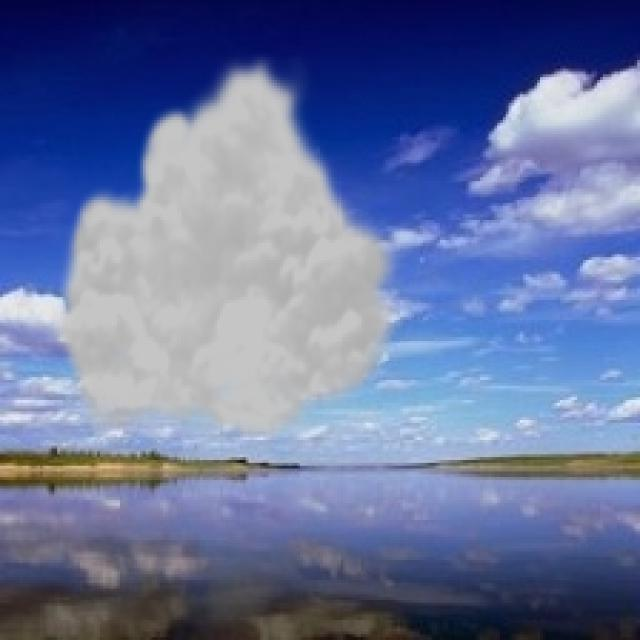smoke: (51, 51, 406, 446)
